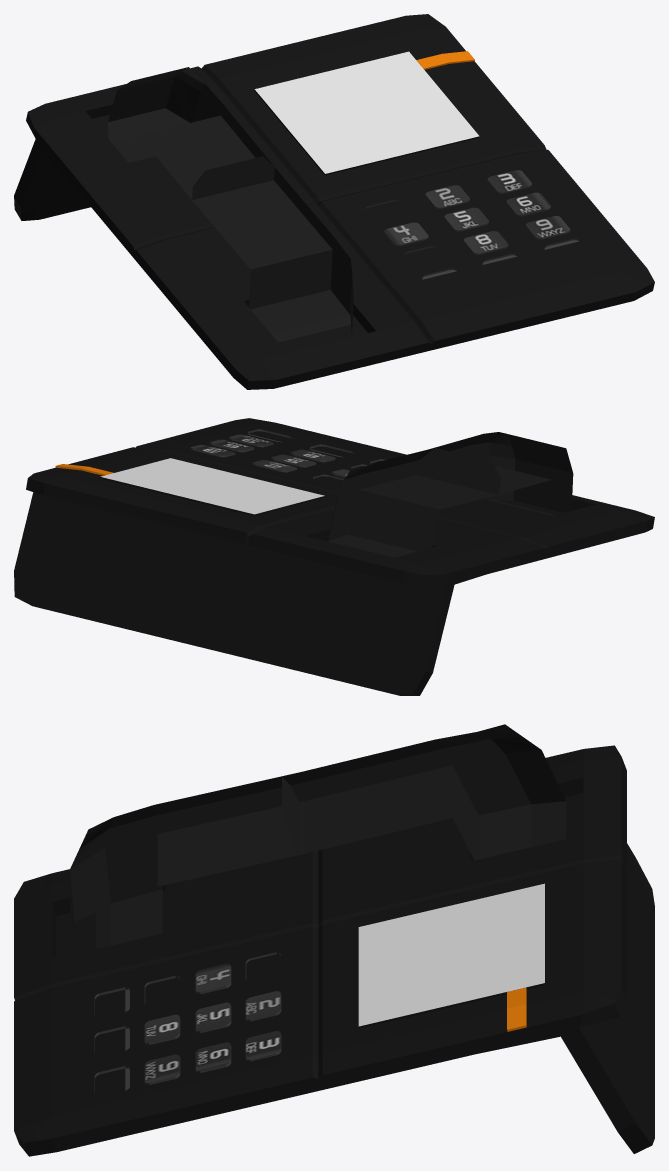
The model's file is telephonefixe.obj.
The picture shows the model from 3 angles, top to bottom: view 1: azimuth 30°, elevation 25°; view 2: azimuth 150°, elevation 25°; view 3: azimuth 270°, elevation 25°; orthographic projection. The views are drawn at different scales.
Visible parts, largest first — view 1: Cube.014_Cube.015; view 2: Cube.014_Cube.015; view 3: Cube.014_Cube.015.
Part boxes in pixels (<box>): Cube.014_Cube.015: <box>14,14,654,389</box>; Cube.014_Cube.015: <box>14,418,654,695</box>; Cube.014_Cube.015: <box>14,724,654,1156</box>.
Bounding box in the file's own units: 0.4242 × 0.1624 × 0.4332.
2 materials, 2 textured.
